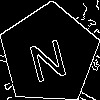N: (24, 29, 70, 83)
